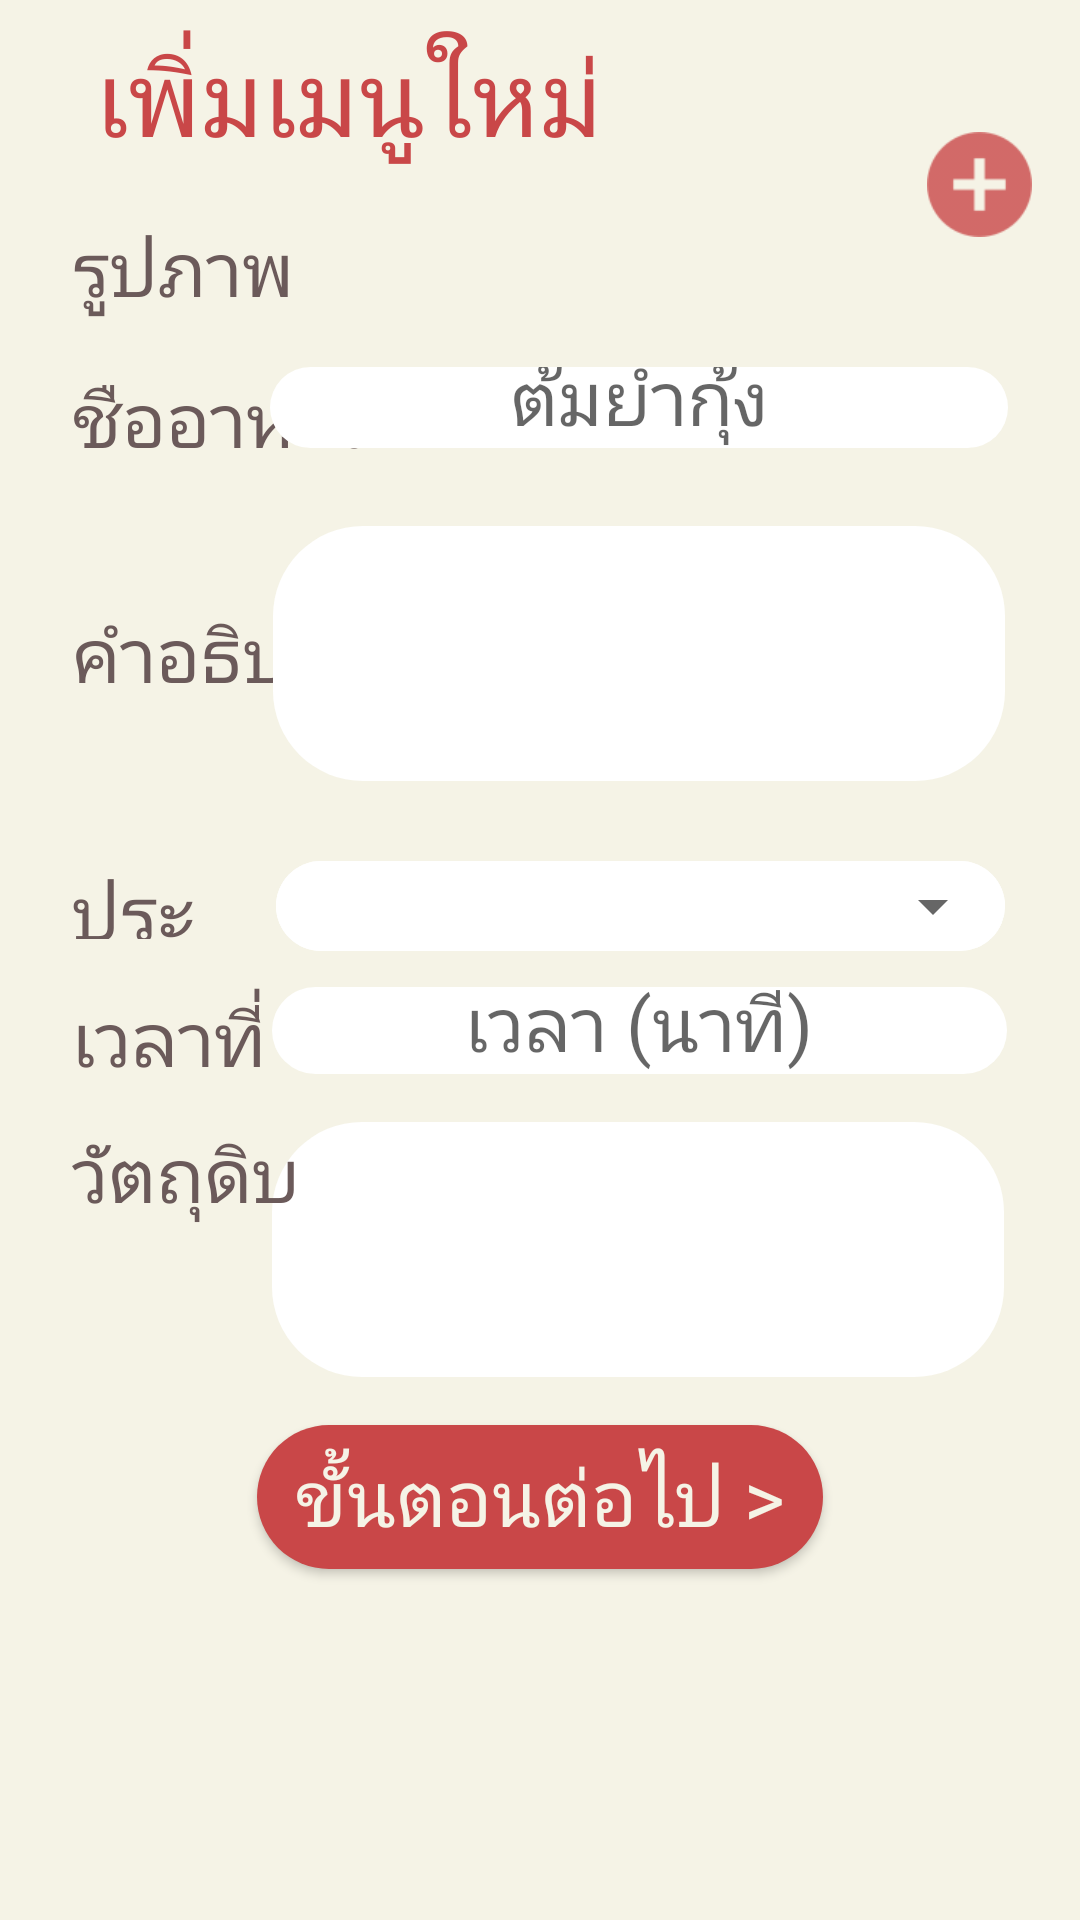

Locate icon controls on the screen. Image size 1080w x 1920h, boxes as [x1=x1, y1=y1, x2=x2, y2=y2].
add: [x1=927, y1=132, x2=1032, y2=237]
